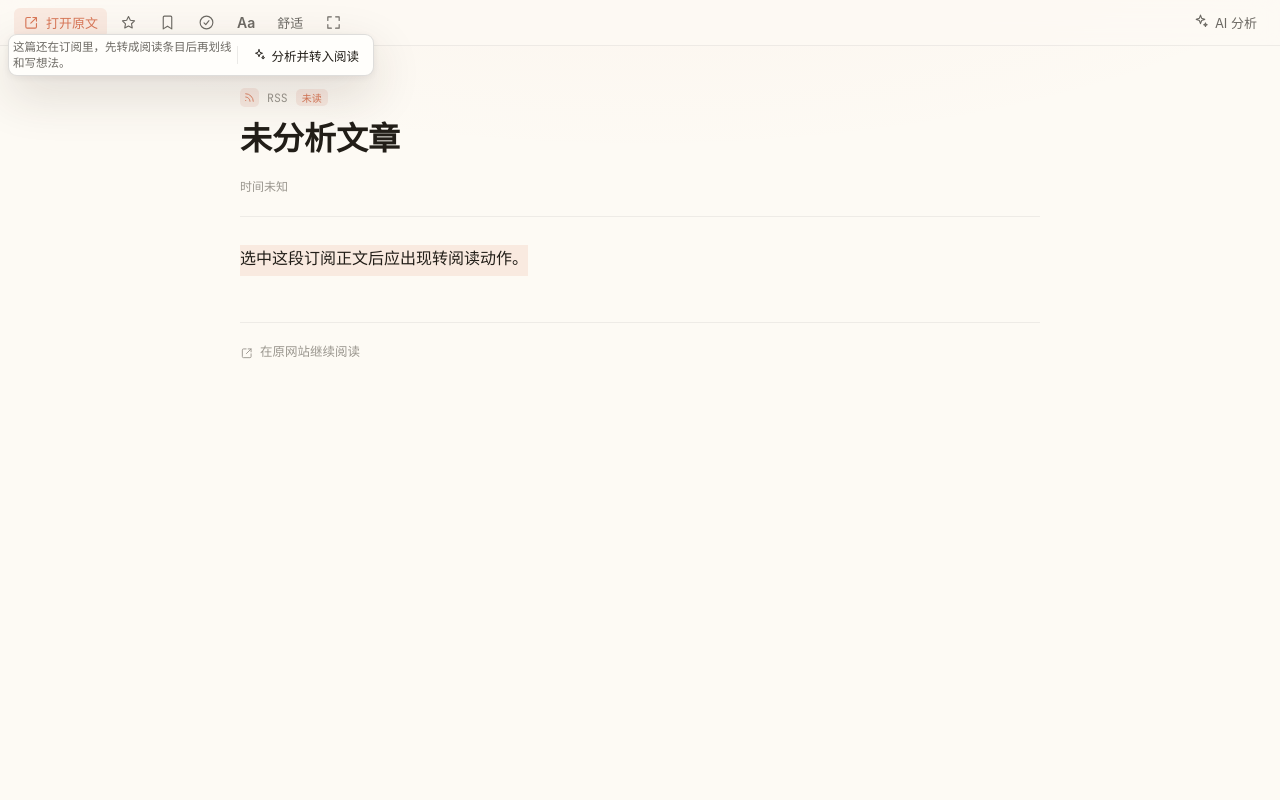
Test: FeedItemDetail › 把未分析正文的选区转成阅读条目
Click the button "分析并转入阅读" at (305, 55), box [242,40,369,71]
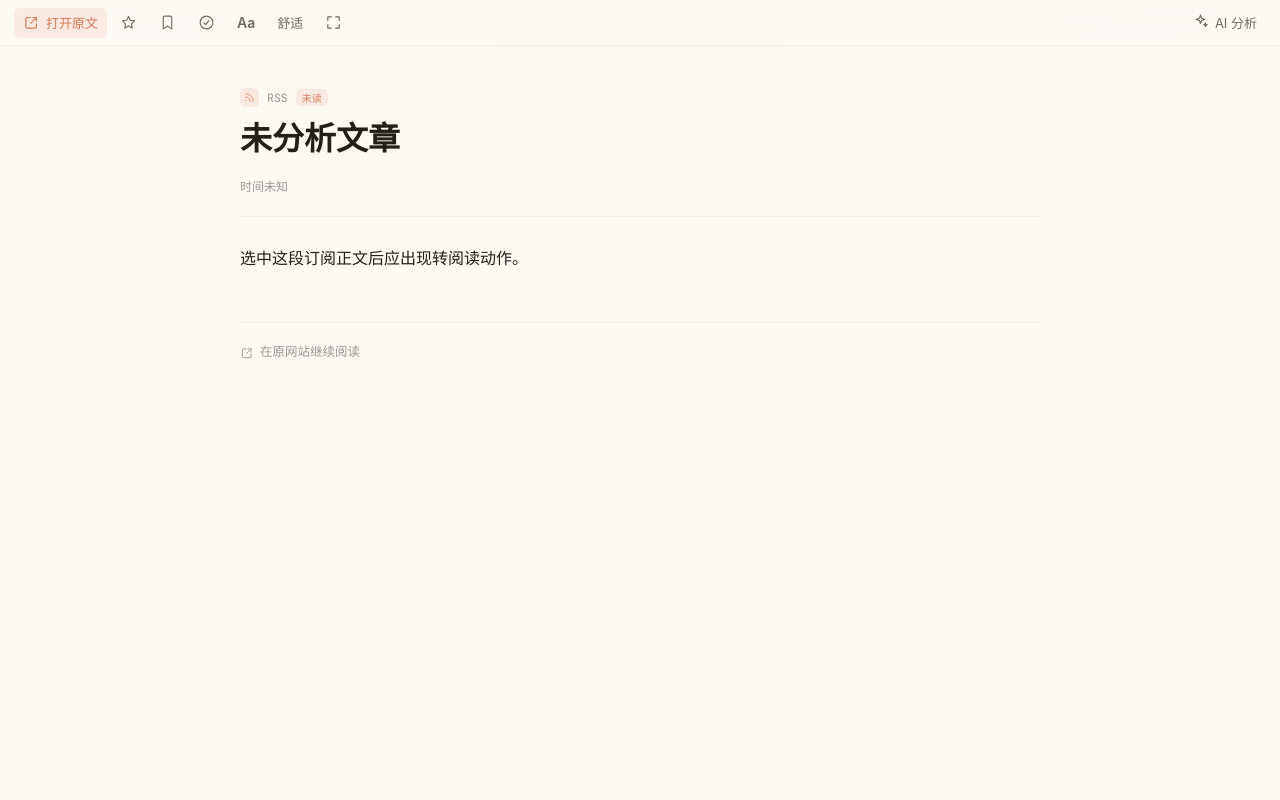
Check: the dialog "订阅正文选区操作" is gone
